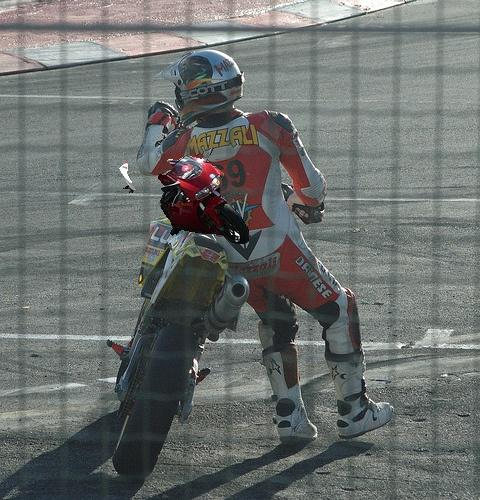tampered: (120, 148, 249, 244)
